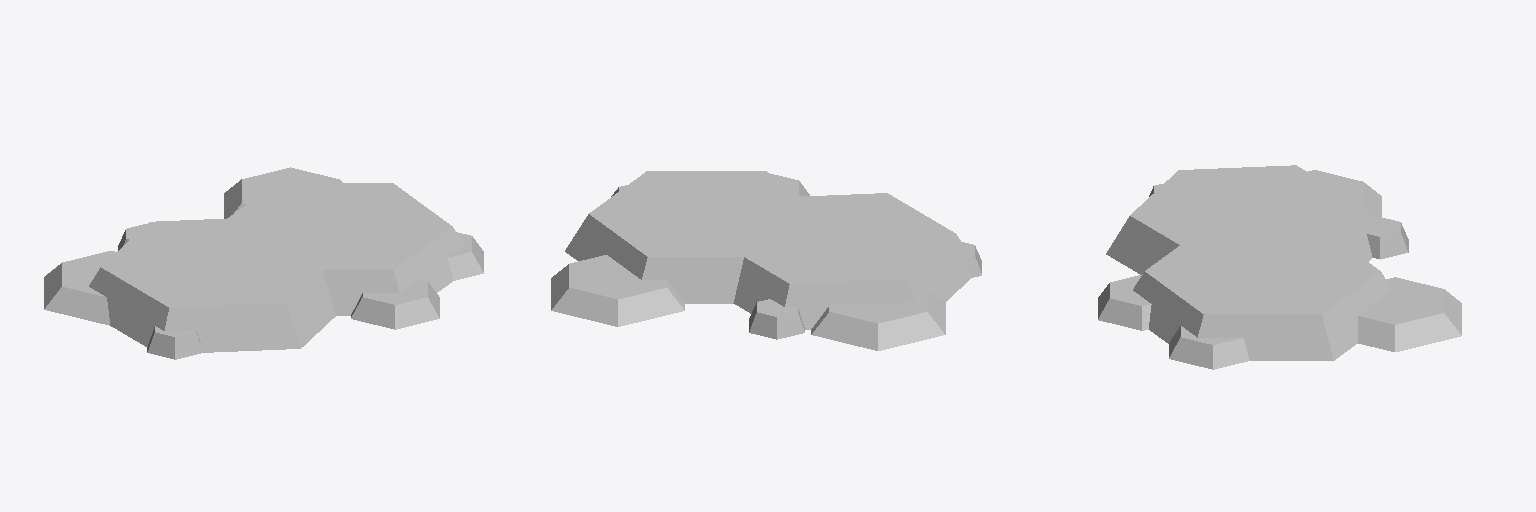
Rendered from platform_grass.obj.
3 views of the same model, side by side, from view 1: azimuth 30°, elevation 25°; view 2: azimuth 150°, elevation 25°; view 3: azimuth 270°, elevation 25° (orthographic).
Visible parts, largest first — view 1: platform_grass; view 2: platform_grass; view 3: platform_grass.
Boxes of the visible parts, box(x1,y1,x2,y2) form: platform_grass: box(44, 167, 483, 359); platform_grass: box(551, 171, 981, 350); platform_grass: box(1098, 165, 1461, 369).
Bounding box in the file's own units: 0.8932 × 0.0825 × 0.7239.